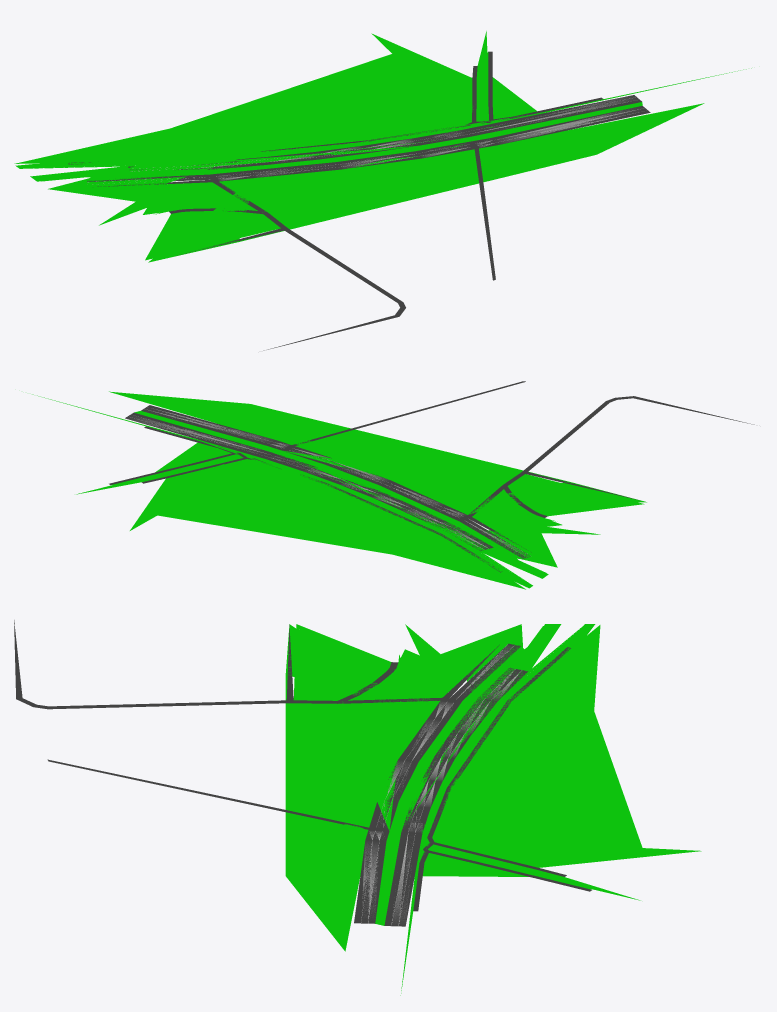
The picture shows the model from 3 angles, top to bottom: view 1: azimuth 30°, elevation 25°; view 2: azimuth 150°, elevation 25°; view 3: azimuth 270°, elevation 25°; orthographic projection. The views are drawn at different scales.
Size of the model in its own units: 452 by 0.001 by 377.
